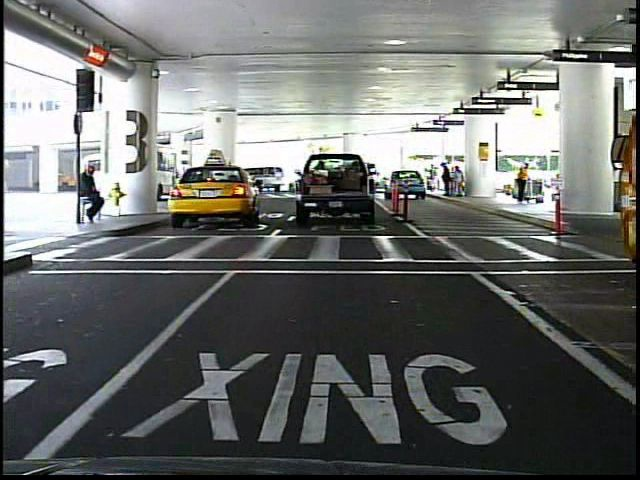person: (80, 160, 108, 229), (511, 158, 532, 208)
